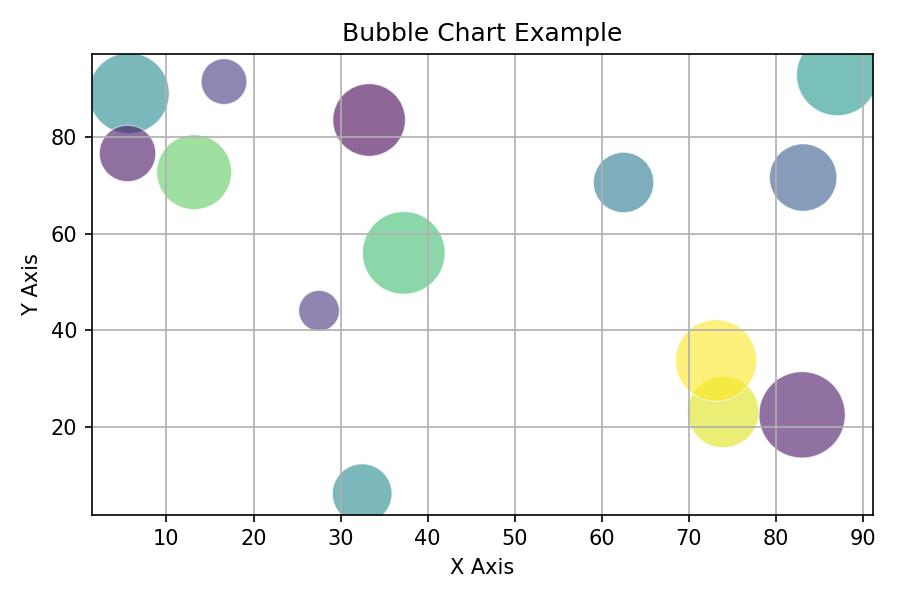axis: (79, 503, 887, 534), (69, 39, 103, 534)
circle: (759, 370, 846, 457), (363, 213, 448, 293), (674, 318, 759, 398), (91, 52, 169, 130), (159, 135, 233, 210), (331, 83, 408, 155), (796, 53, 875, 114), (769, 143, 838, 212), (688, 377, 756, 445), (594, 152, 657, 214), (99, 126, 160, 180), (333, 462, 393, 516), (298, 290, 344, 334), (202, 58, 244, 103)
